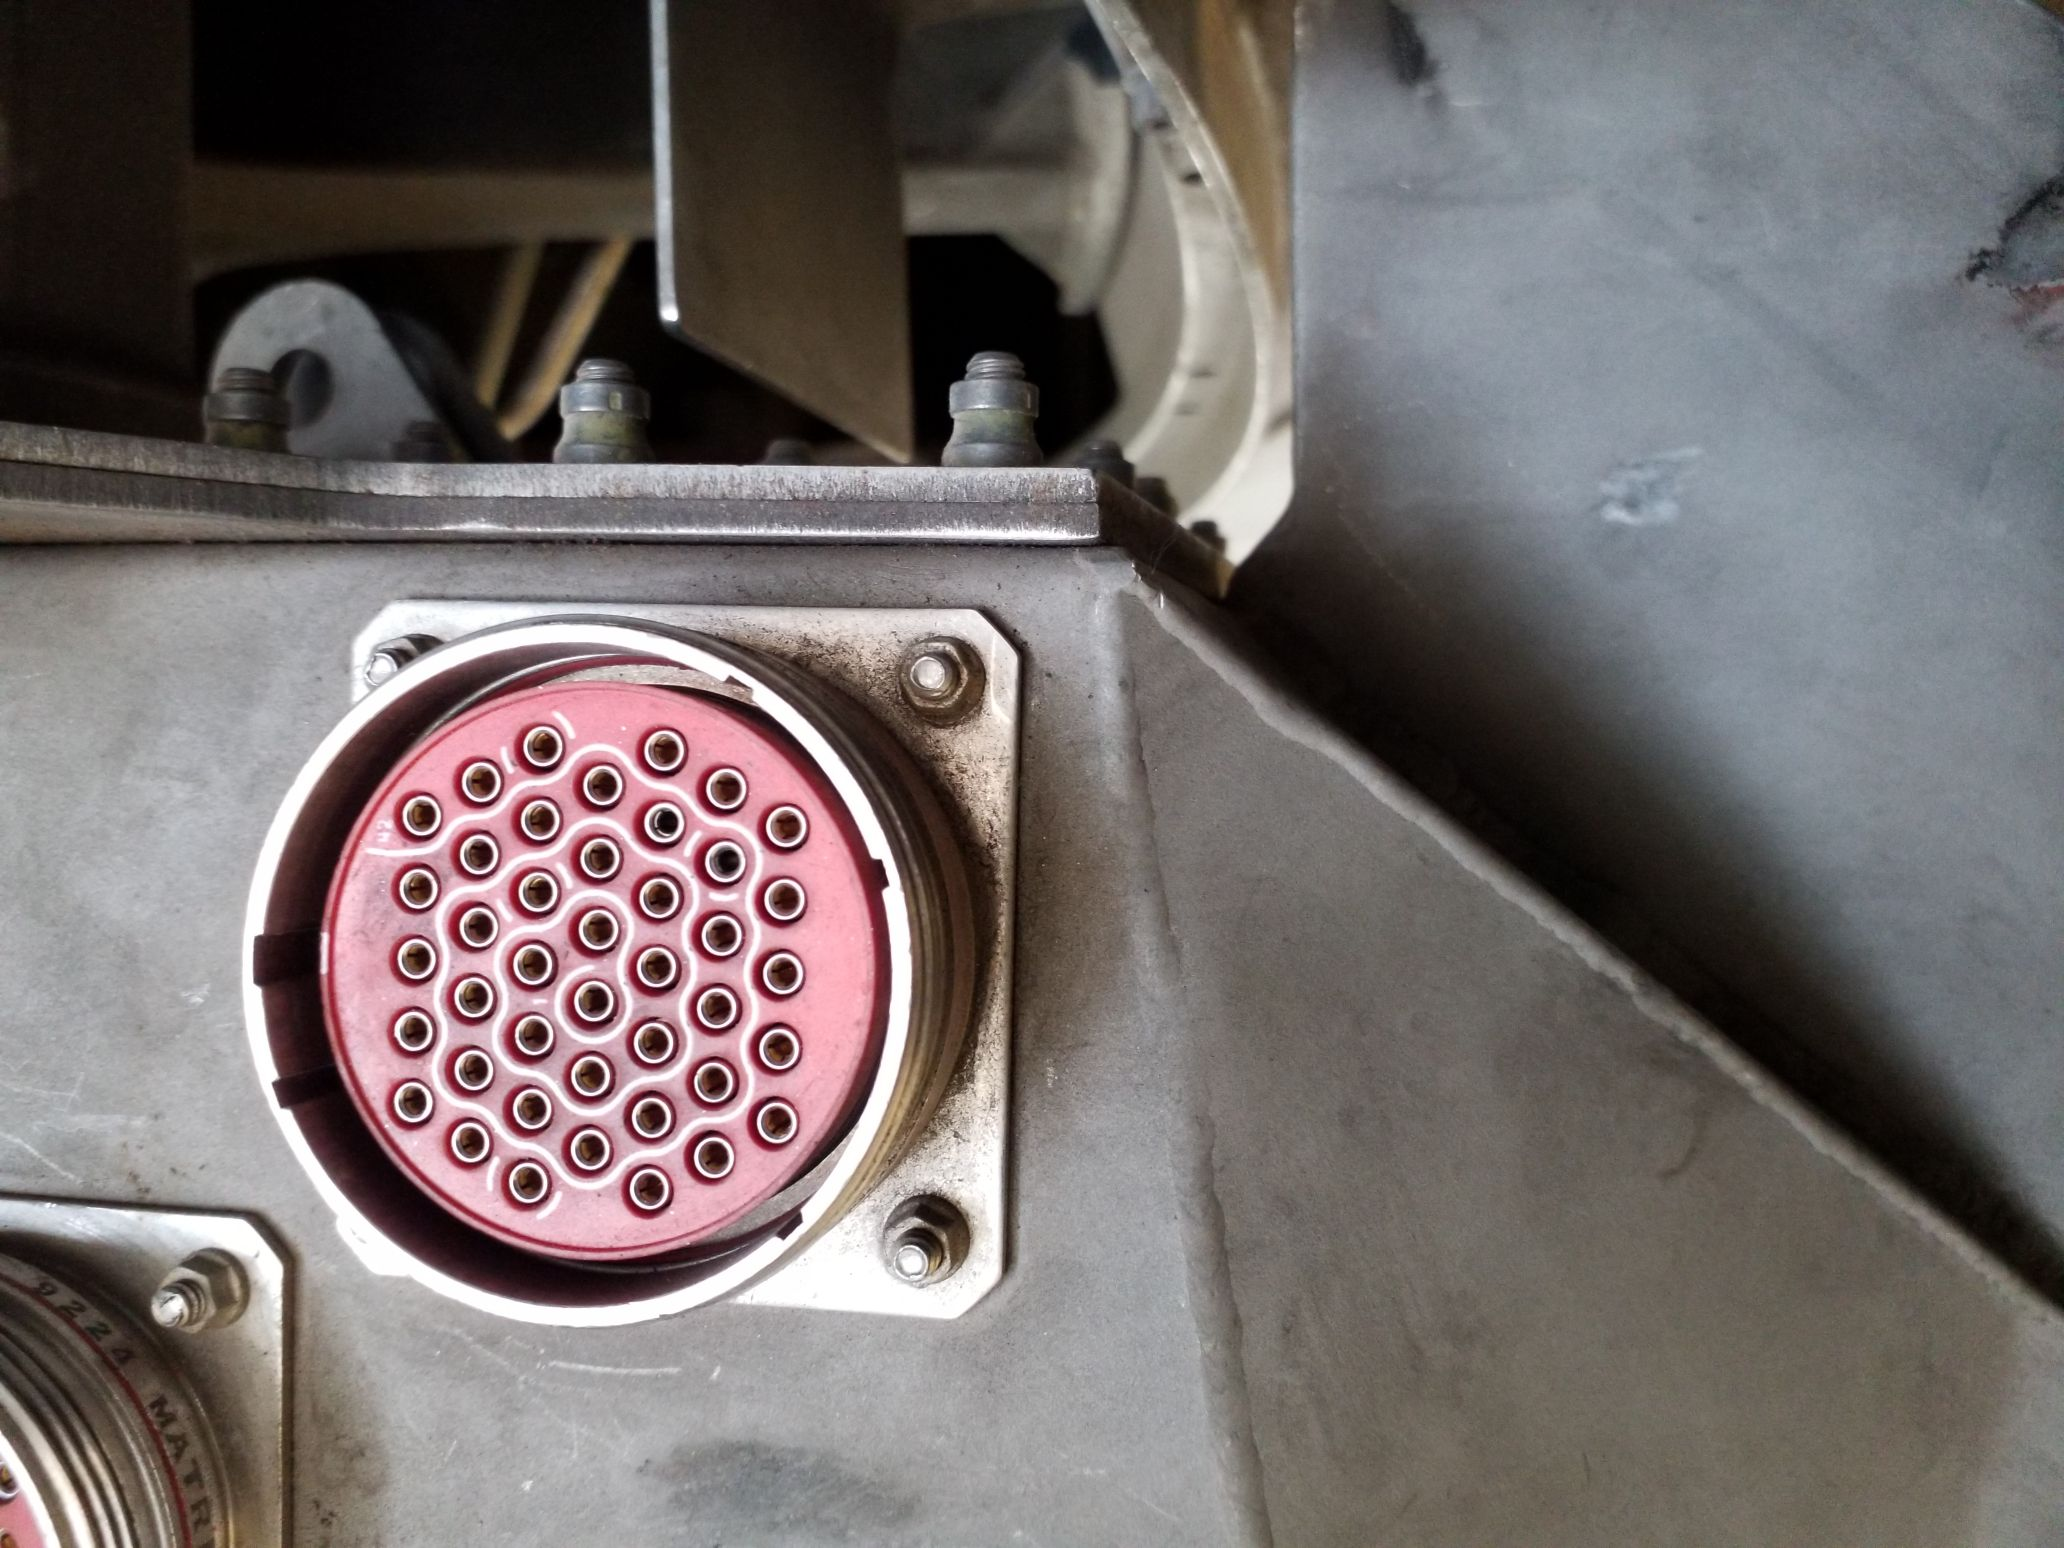inletround: (237, 598, 960, 1346)
